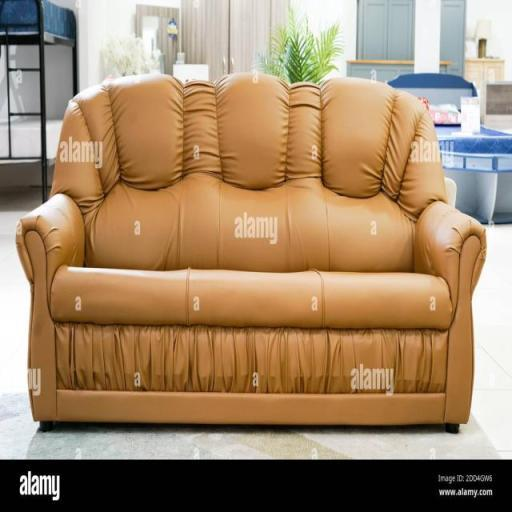sofa: (12, 46, 492, 434)
